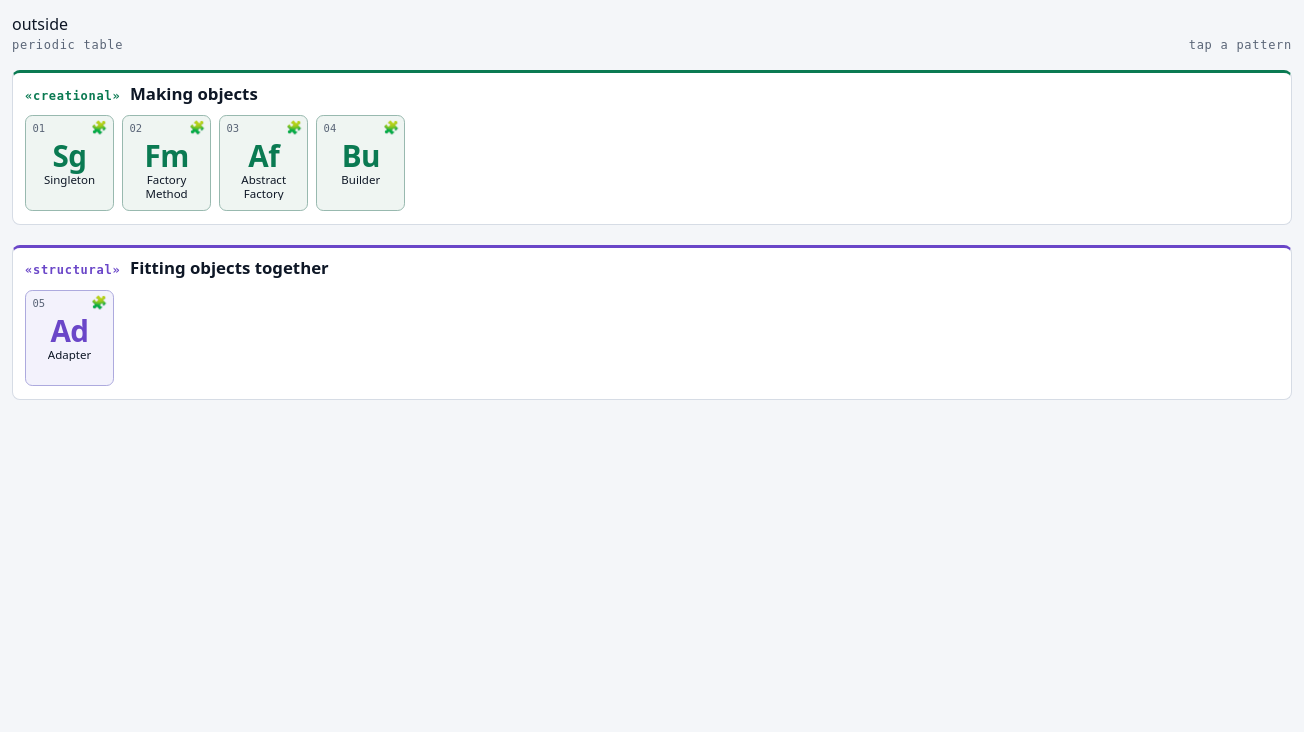
Test: PeriodicTable › marks what a pattern travels with and its look-alikes, and opens a card with a compare link
What coordinates should you click on to do the following:
click the button "03 🧩 Af Abstract Factory"
I would click on:
 (264, 163)
Its box is top-left (219, 115), bottom-right (308, 211).
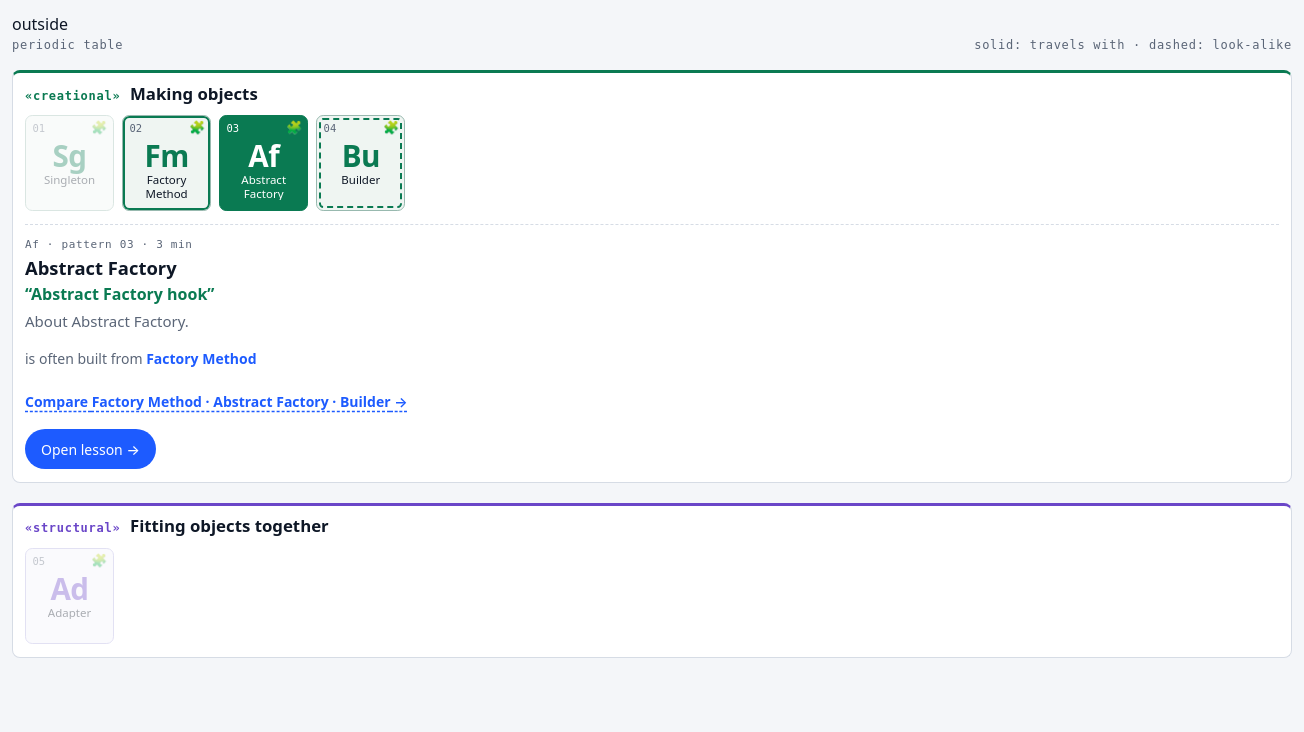
Expected: the text "“Abstract Factory hook”" is shown, top-left (25, 283), bottom-right (214, 305)
